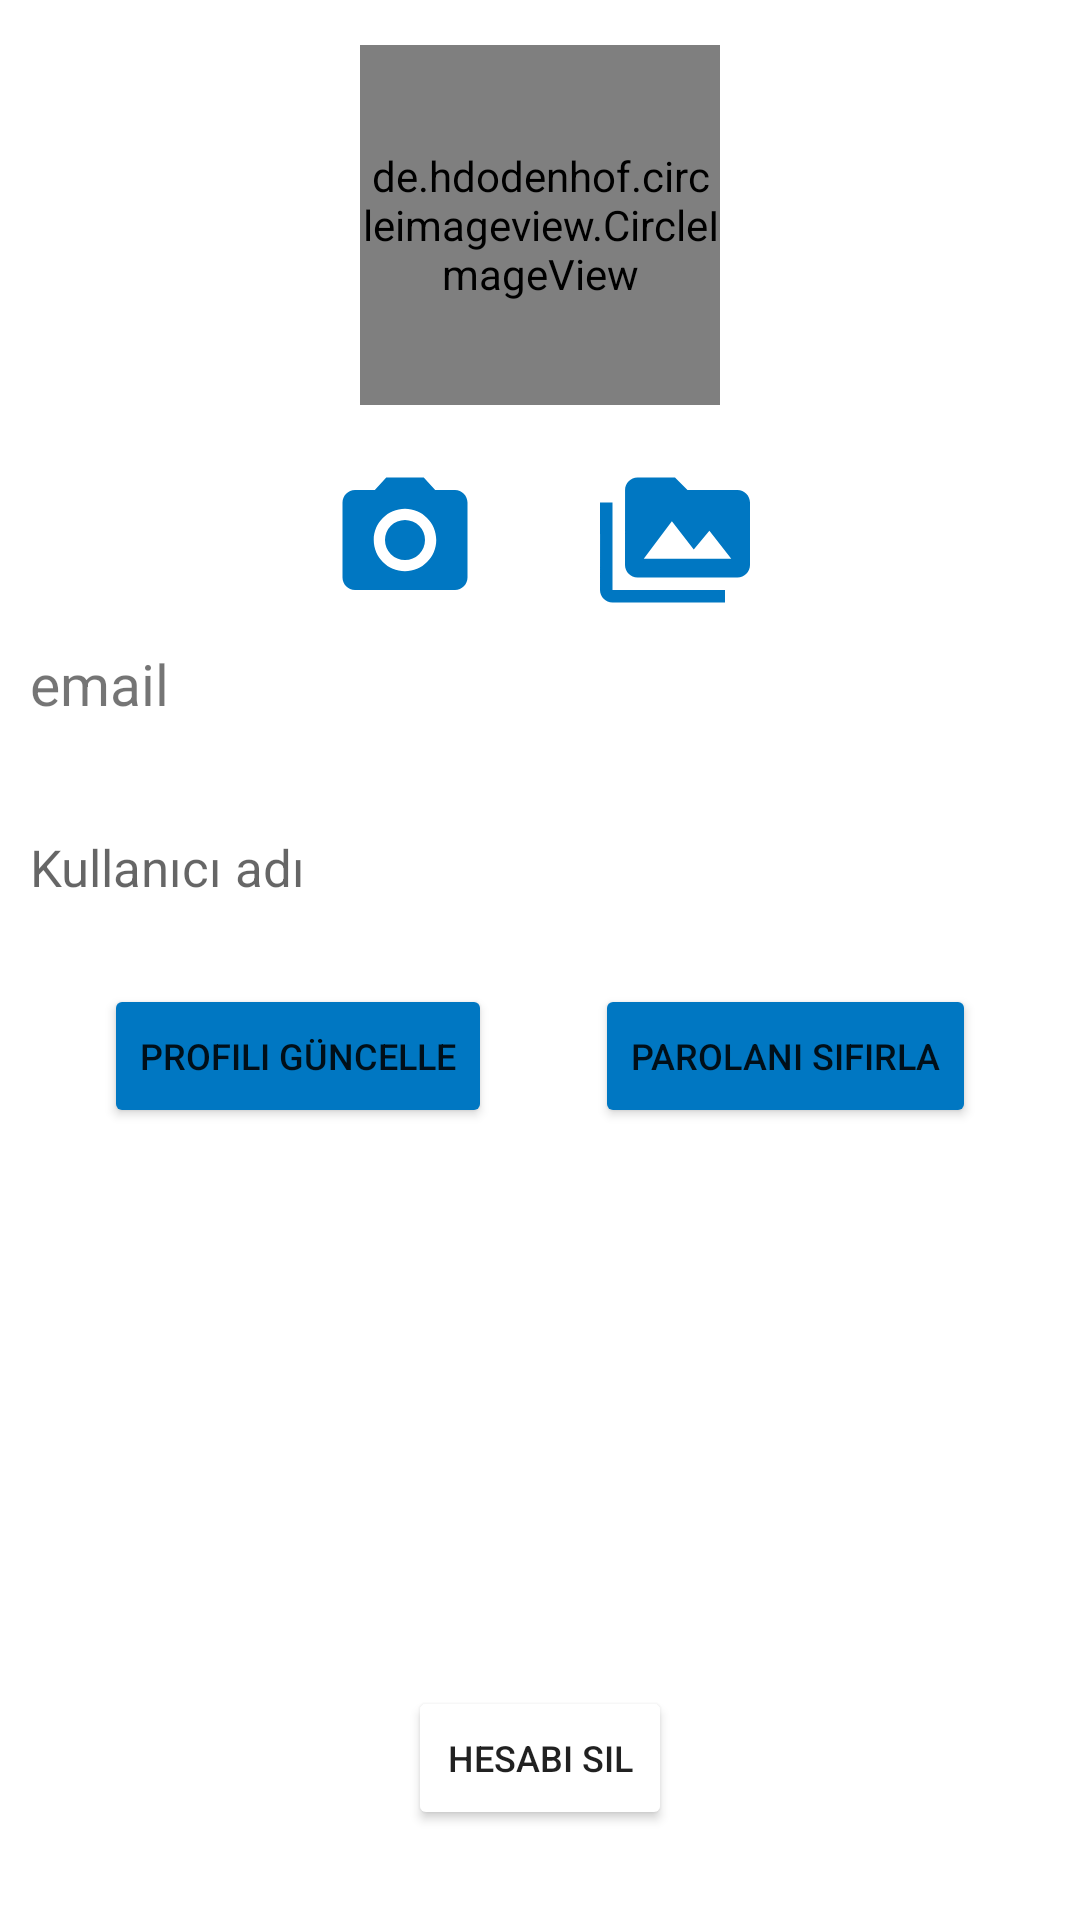

Screen size 1080×1920. Icon name, then its center in pixels as [x,y]:
mediaselectprofile: [675,540]
